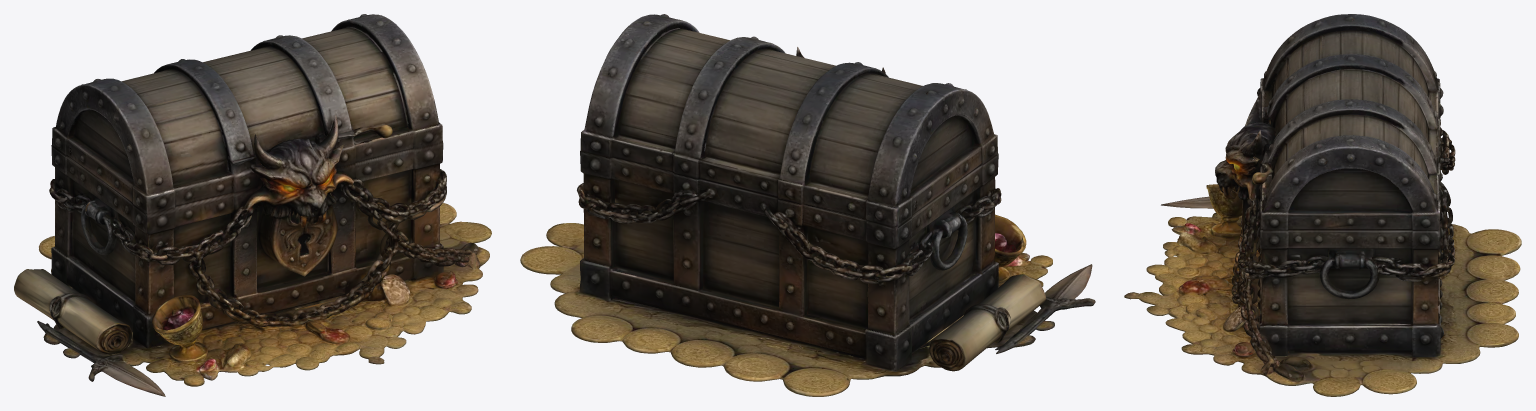
Rendered from treasure-chest.glb.
3 views of the same model, side by side, from view 1: azimuth 30°, elevation 25°; view 2: azimuth 150°, elevation 25°; view 3: azimuth 270°, elevation 25° (orthographic). The views are drawn at different scales.
Parts seen in each view (by area): view 1: node_0; view 2: node_0; view 3: node_0.
Part boxes in pixels (x1,y1,x2,y2): node_0: (14, 14, 491, 396); node_0: (520, 14, 1095, 396); node_0: (1124, 14, 1521, 396).
Bounding box in the file's own units: 1.03 × 0.4924 × 0.8291.
Materials: 1 (1 with a texture image).
